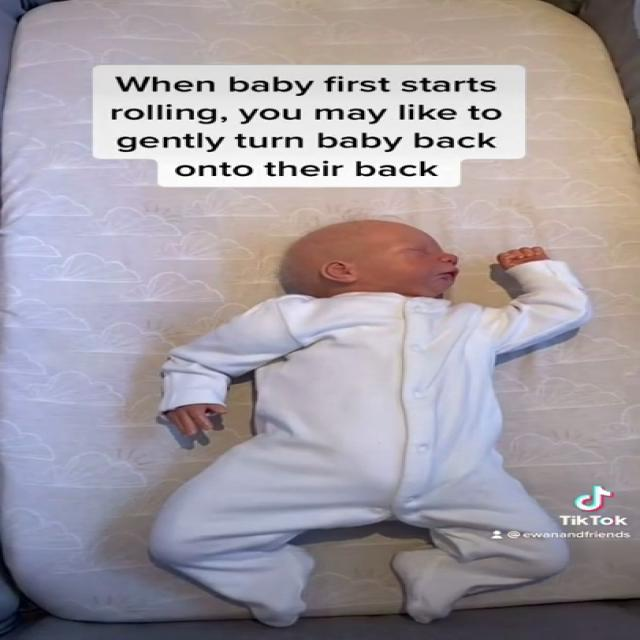baby: (140, 217, 606, 640)
